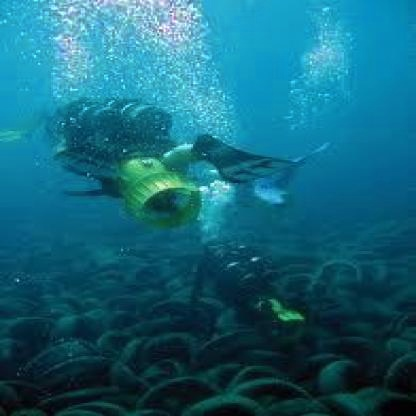tire: (140, 366, 361, 414), (10, 319, 114, 387), (333, 343, 416, 408), (320, 261, 397, 314)
